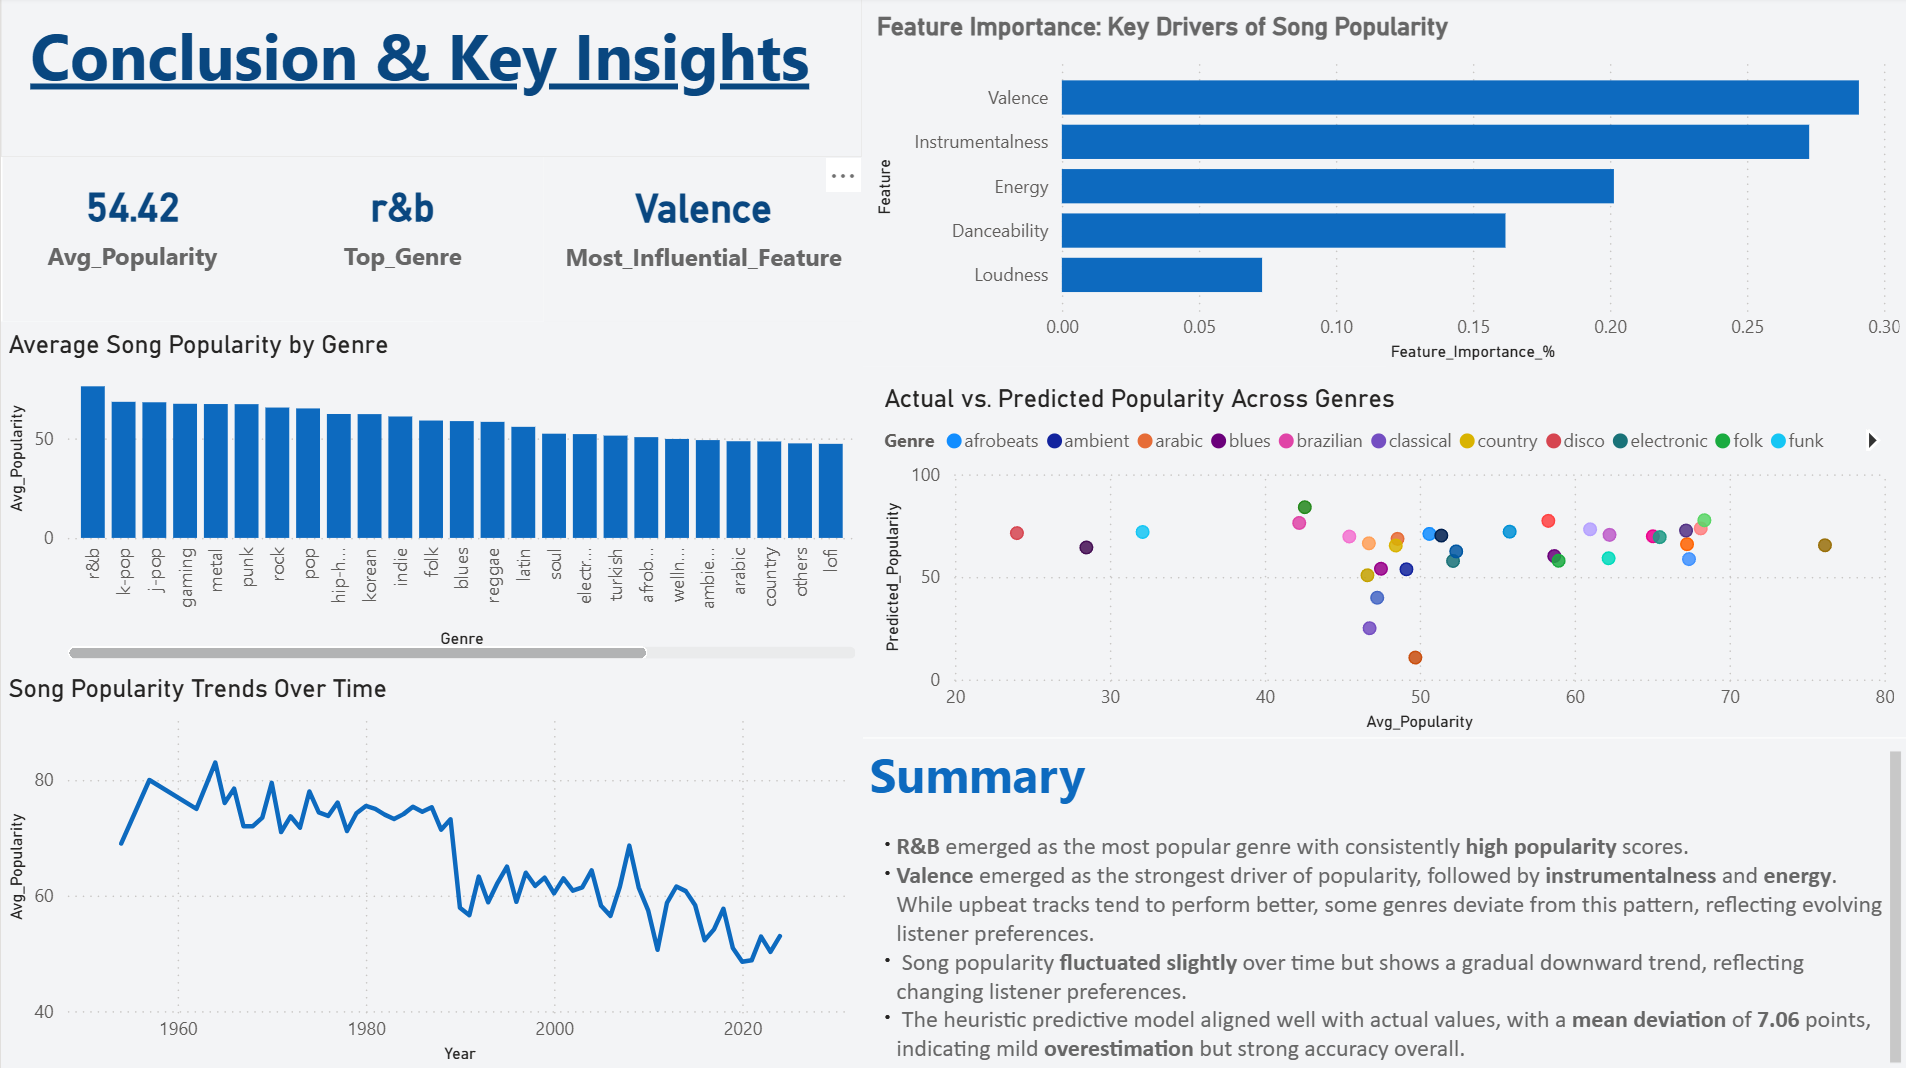

The dashboard page shown, as its layout file describes it:
{"tool":"powerbi","page":{"name":"Conclusion & Key Insights","canvas":[1280,720],"ordinal":5},"visuals":[{"type":"card","fields":{"Values":["_Measures.Avg_Popularity"]},"box":[1.1,93.3,173.3,124.4],"z":0},{"type":"card","fields":{"Values":["_Measures.Top_Genre"]},"box":[174.4,93.3,190,124.4],"z":1000},{"type":"card","fields":{"Values":["_Measures.Most_Influential_Feature"]},"box":[364.4,93.3,213.3,125.6],"z":2000},{"type":"clusteredColumnChart","title":"Average Song Popularity by Genre","fields":{"Category":["Spotify_data.Genre"],"Y":["_Measures.Avg_Popularity"]},"box":[0,217.8,577.8,231.1],"z":3000},{"type":"clusteredBarChart","title":"Feature Importance: Key Drivers of Song Popularity","fields":{"Category":["Table.Feature"],"Y":["Table.Feature_Importance_%"]},"box":[577.8,0,702.2,248.9],"z":4000},{"type":"lineChart","title":"Song Popularity Trends Over Time","fields":{"Category":["Date.Year"],"Y":["_Measures.Avg_Popularity"]},"box":[0,448.9,577.8,271.1],"z":5000},{"type":"scatterChart","title":"Actual vs. Predicted Popularity Across Genres","fields":{"X":["_Measures.Avg_Popularity"],"Y":["_Measures.Predicted_Popularity"],"Series":["Spotify_data.Genre"]},"box":[577.8,248.9,702.2,248.9],"z":6000},{"type":"textbox","box":[577.8,497.8,702.2,222.2],"z":7000},{"type":"textbox","box":[0,0,577.8,107.8],"z":8000}]}

Visuals, with their boxes in screenshot pixels (x1, y1, x2, y2), scaled from the page's 1280x720 canvas onto the 1906x1068 screenshot:
card - _Measures.Avg_Popularity: detection(2, 138, 260, 323)
card - _Measures.Top_Genre: detection(260, 138, 543, 323)
card - _Measures.Most_Influential_Feature: detection(543, 138, 860, 325)
"Average Song Popularity by Genre" clusteredColumnChart: detection(0, 323, 860, 666)
"Feature Importance: Key Drivers of Song Popularity" clusteredBarChart: detection(860, 0, 1905, 369)
"Song Popularity Trends Over Time" lineChart: detection(0, 666, 860, 1067)
"Actual vs. Predicted Popularity Across Genres" scatterChart: detection(860, 369, 1905, 738)
textbox: detection(860, 738, 1905, 1067)
textbox: detection(0, 0, 860, 160)
